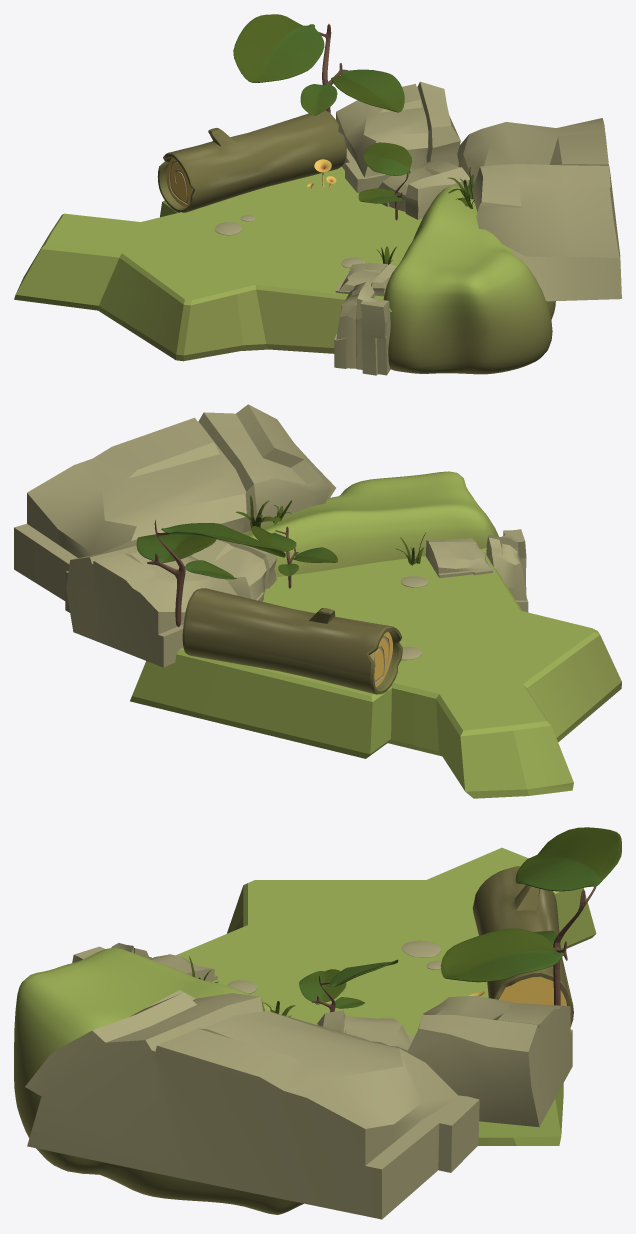
Rendered from RolyPolyIslands.glb.
3 views of the same model, one above another, from view 1: azimuth 30°, elevation 25°; view 2: azimuth 150°, elevation 25°; view 3: azimuth 270°, elevation 25° (orthographic). The views are drawn at different scales.
Parts seen in each view (by area): view 1: Plane, Cube.001, Cube.007, log, Cube, Plane.006, Cube.006, Cube.002, Plane.005, Plane.003, Cube.005, Plane.004 (+1 smaller); view 2: Plane, Cube.007, log, Cube.001, Cube, Cube.002, Cube.006, Cube.005, Plane.005, Plane.006, Cube.004, Plane.003 (+2 smaller); view 3: Cube.007, Plane, Cube.001, Cube, log, Plane.006, Plane.005, Cube.002, Plane.002, Cube.004, Cube.005, Plane.003 (+1 smaller).
Boxes of the visible parts, bbox=[...] form: Plane: bbox=[14, 166, 422, 361]; Cube.001: bbox=[383, 186, 555, 374]; Cube.007: bbox=[457, 118, 621, 301]; log: bbox=[157, 110, 346, 212]; Cube: bbox=[336, 81, 460, 192]; Plane.006: bbox=[233, 14, 324, 82]; Cube.006: bbox=[334, 280, 390, 375]; Cube.002: bbox=[378, 160, 469, 219]; Plane.005: bbox=[331, 69, 404, 112]; Plane.003: bbox=[363, 142, 412, 175]; Cube.005: bbox=[335, 263, 396, 296]; Plane.004: bbox=[300, 83, 337, 115]; Plane: bbox=[130, 547, 621, 798]; Cube.007: bbox=[14, 404, 335, 612]; log: bbox=[182, 588, 402, 694]; Cube.001: bbox=[242, 471, 498, 576]; Cube: bbox=[66, 534, 237, 667]; Cube.002: bbox=[191, 539, 277, 601]; Cube.006: bbox=[486, 529, 528, 612]; Cube.005: bbox=[425, 538, 492, 578]; Plane.005: bbox=[136, 534, 216, 562]; Plane.006: bbox=[161, 523, 285, 557]; Cube.004: bbox=[147, 520, 185, 626]; Plane.003: bbox=[251, 526, 296, 551]; Cube.007: bbox=[25, 990, 479, 1219]; Plane: bbox=[176, 847, 596, 1145]; Cube.001: bbox=[14, 947, 303, 1214]; Cube: bbox=[408, 995, 572, 1127]; log: bbox=[472, 866, 573, 1026]; Plane.006: bbox=[515, 827, 621, 891]; Plane.005: bbox=[440, 928, 564, 982]; Cube.002: bbox=[317, 1010, 414, 1052]; Plane.002: bbox=[299, 969, 346, 1004]; Cube.004: bbox=[553, 886, 596, 1005]; Cube.005: bbox=[150, 954, 217, 981]; Plane.003: bbox=[329, 959, 398, 986].
Bounding box in the file's own units: 4.54 × 1.73 × 3.27.
1 material, 1 textured.
